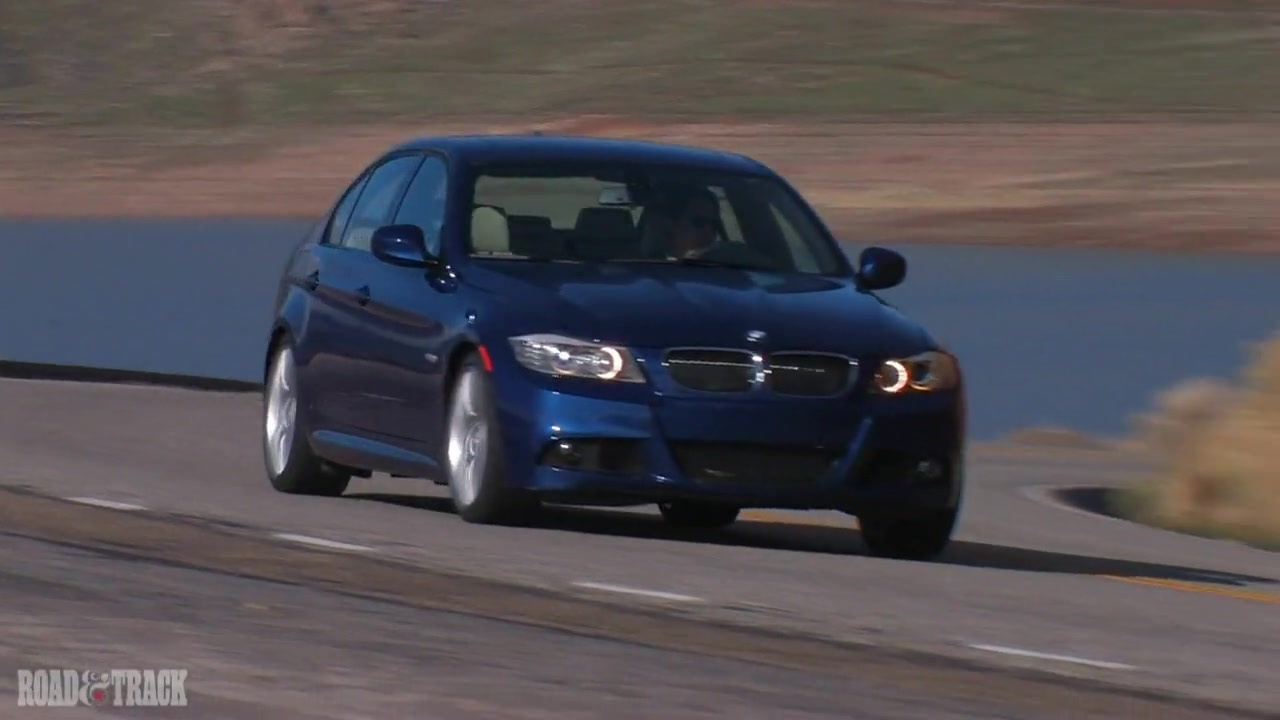car: (262, 135, 965, 559)
